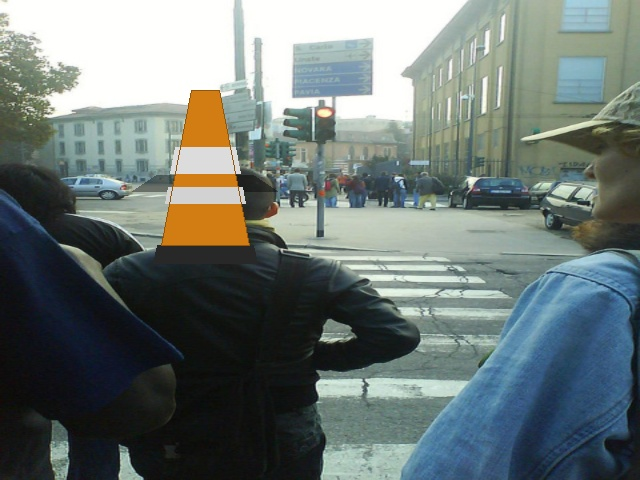traffic-cone: (153, 90, 257, 263)
